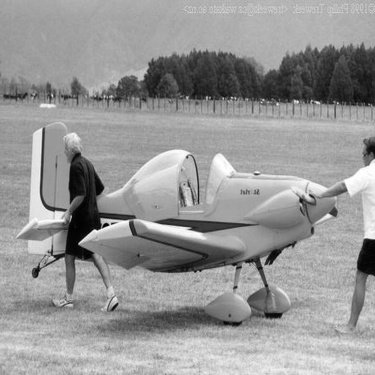airplane: (22, 113, 347, 326)
